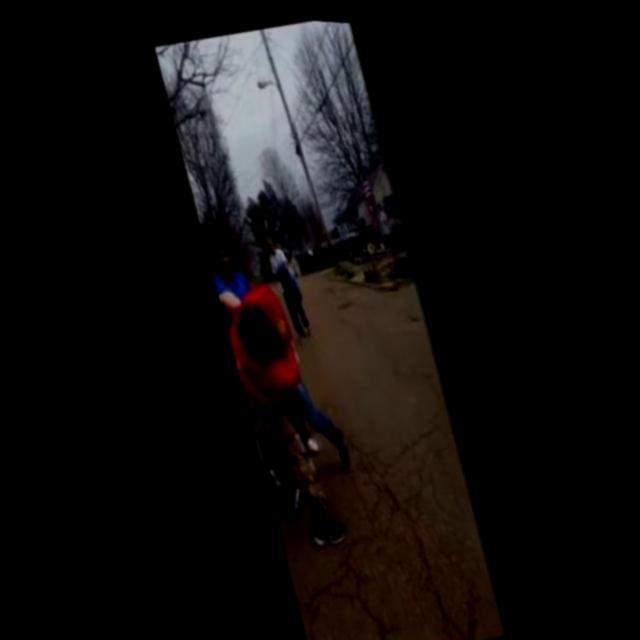fight: (215, 264, 372, 558)
